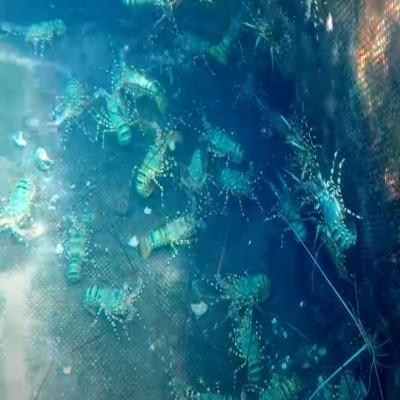lobster: (316, 185, 359, 253), (84, 284, 138, 325), (144, 216, 196, 258), (273, 188, 308, 247), (119, 64, 165, 108), (139, 139, 168, 203), (5, 182, 36, 241), (223, 272, 270, 310), (240, 323, 265, 389), (207, 120, 245, 163), (104, 96, 134, 146), (65, 222, 88, 282), (359, 327, 384, 378), (219, 170, 253, 204), (62, 80, 85, 125), (23, 19, 66, 40), (188, 154, 207, 194)
